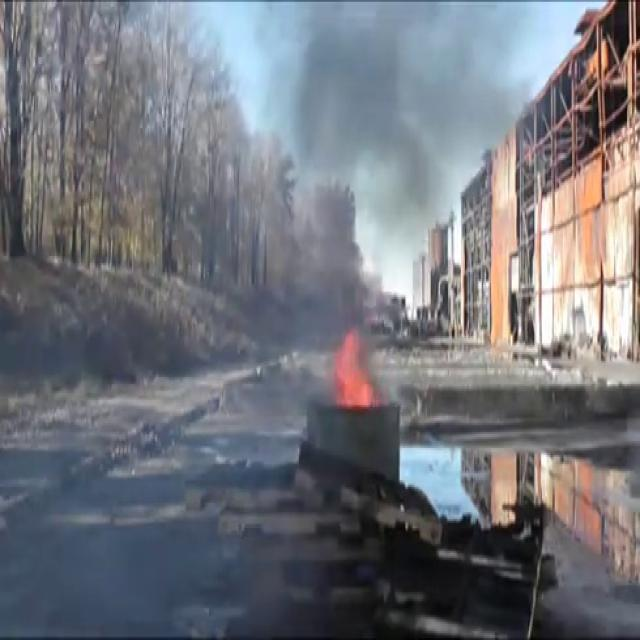Fire: (328, 324, 380, 411)
Smoke: (205, 1, 440, 327)
